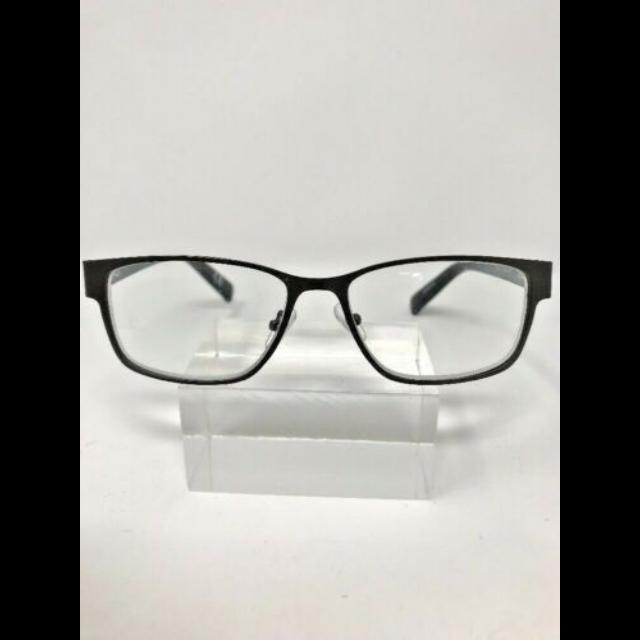mask: (80, 252, 558, 386)
